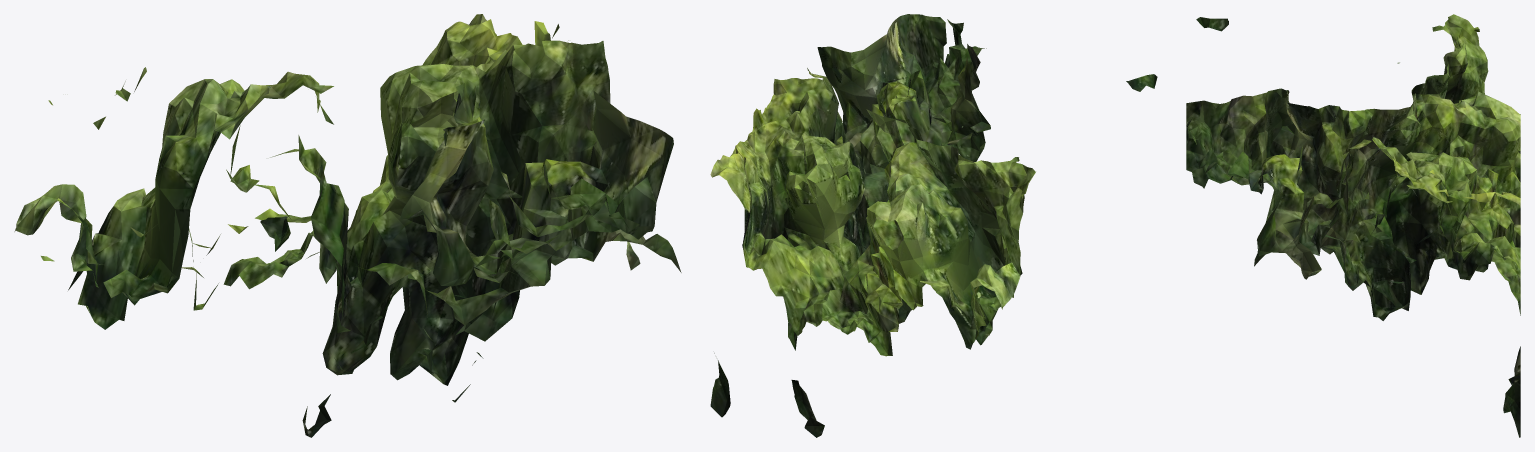
3 views of the same model, side by side, from view 1: azimuth 30°, elevation 25°; view 2: azimuth 150°, elevation 25°; view 3: azimuth 270°, elevation 25° (orthographic). The views are drawn at different scales.
Size of the model in its own units: 26.11 by 24.79 by 26.11.
Materials: 5 (5 with a texture image).
